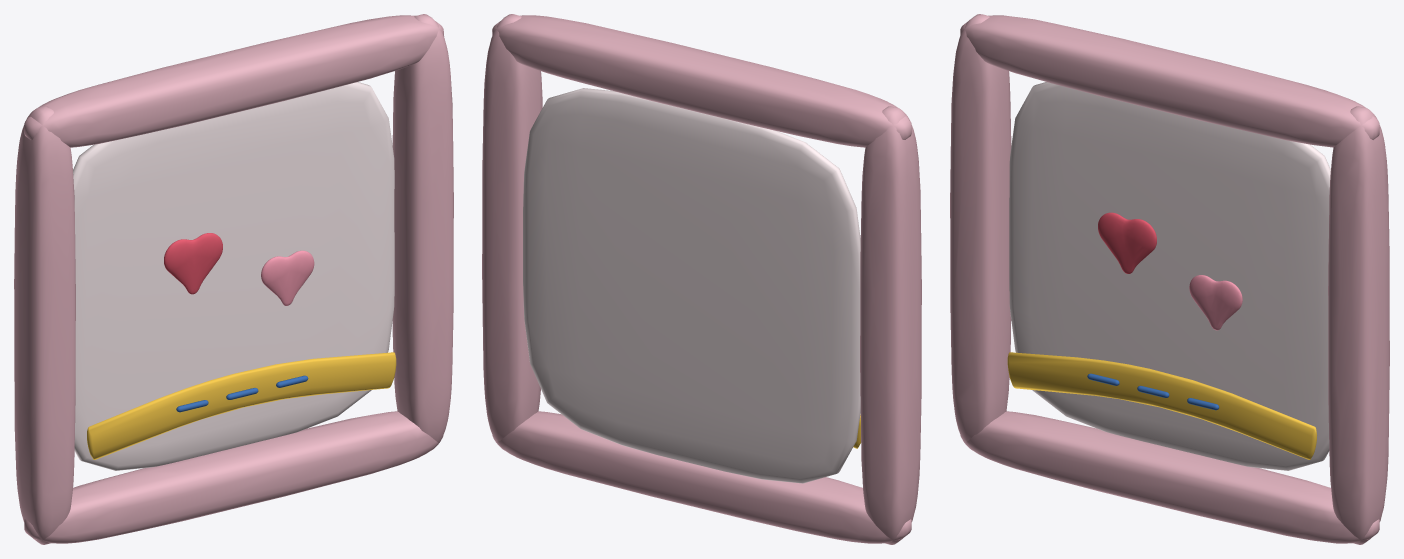
Rendered from deco_cuadro_amor.glb.
3 views of the same model, side by side, from view 1: azimuth 30°, elevation 25°; view 2: azimuth 150°, elevation 25°; view 3: azimuth 330°, elevation 25° (orthographic).
Parts seen in each view (by area): view 1: lienzo.022, marco vertical.044, marco horizontal.045, marco vertical.045, marco horizontal.044, listón amor.001, corazón uno.001, corazón dos.001; view 2: lienzo.022, marco vertical.044, marco horizontal.045, marco vertical.045, marco horizontal.044; view 3: lienzo.022, marco vertical.045, marco horizontal.045, marco vertical.044, marco horizontal.044, listón amor.001, corazón uno.001, corazón dos.001.
Boxes of the visible parts, left/top/right/bottom form: lienzo.022: left=73, top=82, right=394, bottom=470; marco vertical.044: left=14, top=106, right=75, bottom=544; marco horizontal.045: left=24, top=15, right=444, bottom=147; marco vertical.045: left=392, top=14, right=453, bottom=450; marco horizontal.044: left=24, top=411, right=443, bottom=543; listón amor.001: left=87, top=352, right=396, bottom=459; corazón uno.001: left=164, top=233, right=222, bottom=294; corazón dos.001: left=261, top=250, right=314, bottom=305; lienzo.022: left=523, top=88, right=860, bottom=483; marco vertical.044: left=860, top=106, right=921, bottom=544; marco horizontal.045: left=492, top=15, right=911, bottom=147; marco vertical.045: left=482, top=14, right=542, bottom=450; marco horizontal.044: left=492, top=411, right=911, bottom=543; lienzo.022: left=1009, top=82, right=1330, bottom=470; marco vertical.045: left=1328, top=106, right=1389, bottom=544; marco horizontal.045: left=960, top=15, right=1379, bottom=147; marco vertical.044: left=950, top=14, right=1011, bottom=450; marco horizontal.044: left=960, top=411, right=1379, bottom=543; listón amor.001: left=1007, top=352, right=1317, bottom=459; corazón uno.001: left=1098, top=212, right=1156, bottom=273; corazón dos.001: left=1189, top=275, right=1242, bottom=330.
Bounding box in the file's own units: 0.5098 × 0.5097 × 0.0597.
